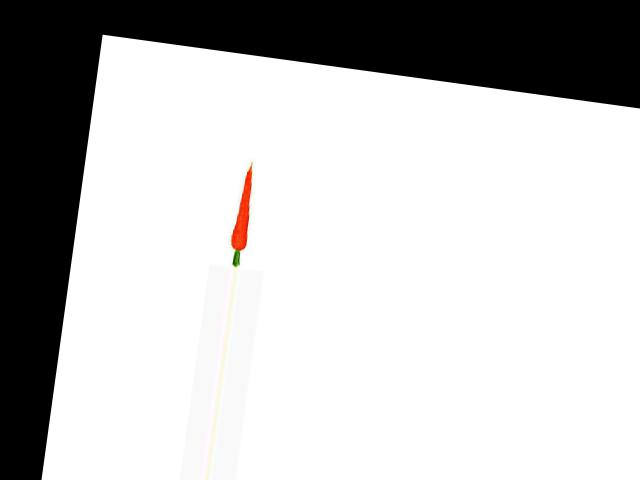carrot: (225, 158, 262, 253)
